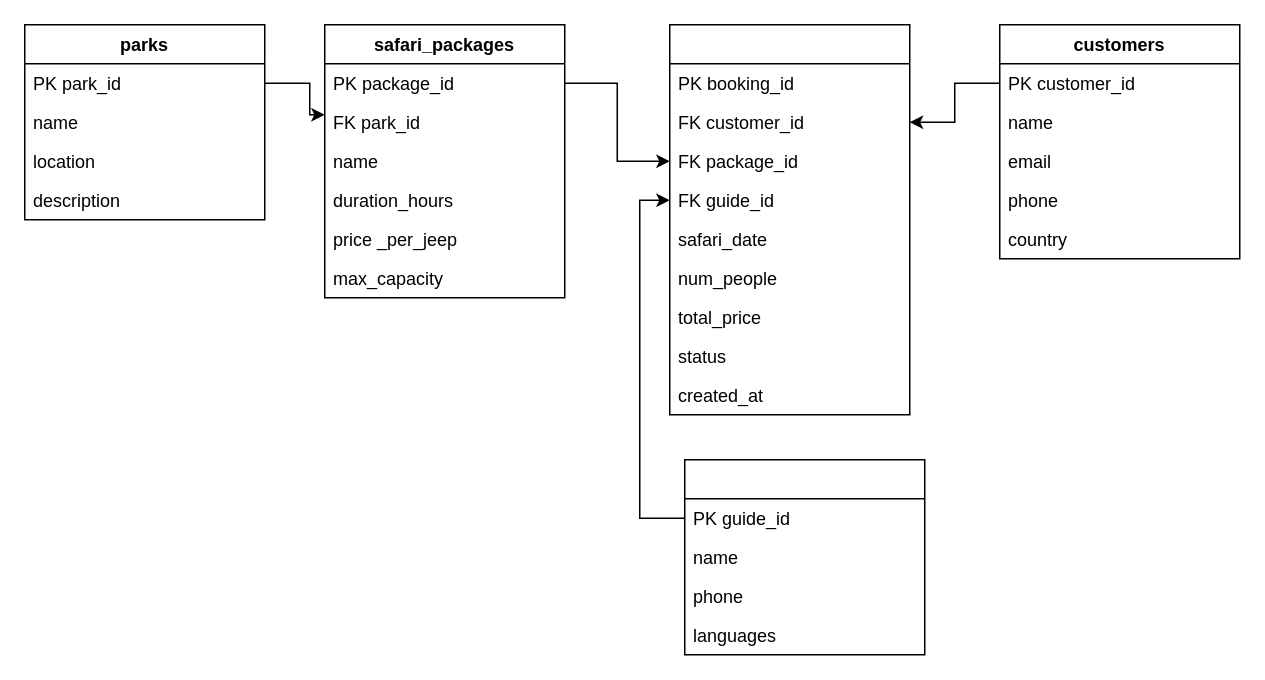
Image size: 1265x680. Some labels were removed from this diagram. Here are the shapes that lost their labels. From the top down, the box of each, then its label:
(668, 23, 910, 415): bookings
(683, 458, 925, 655): guides
